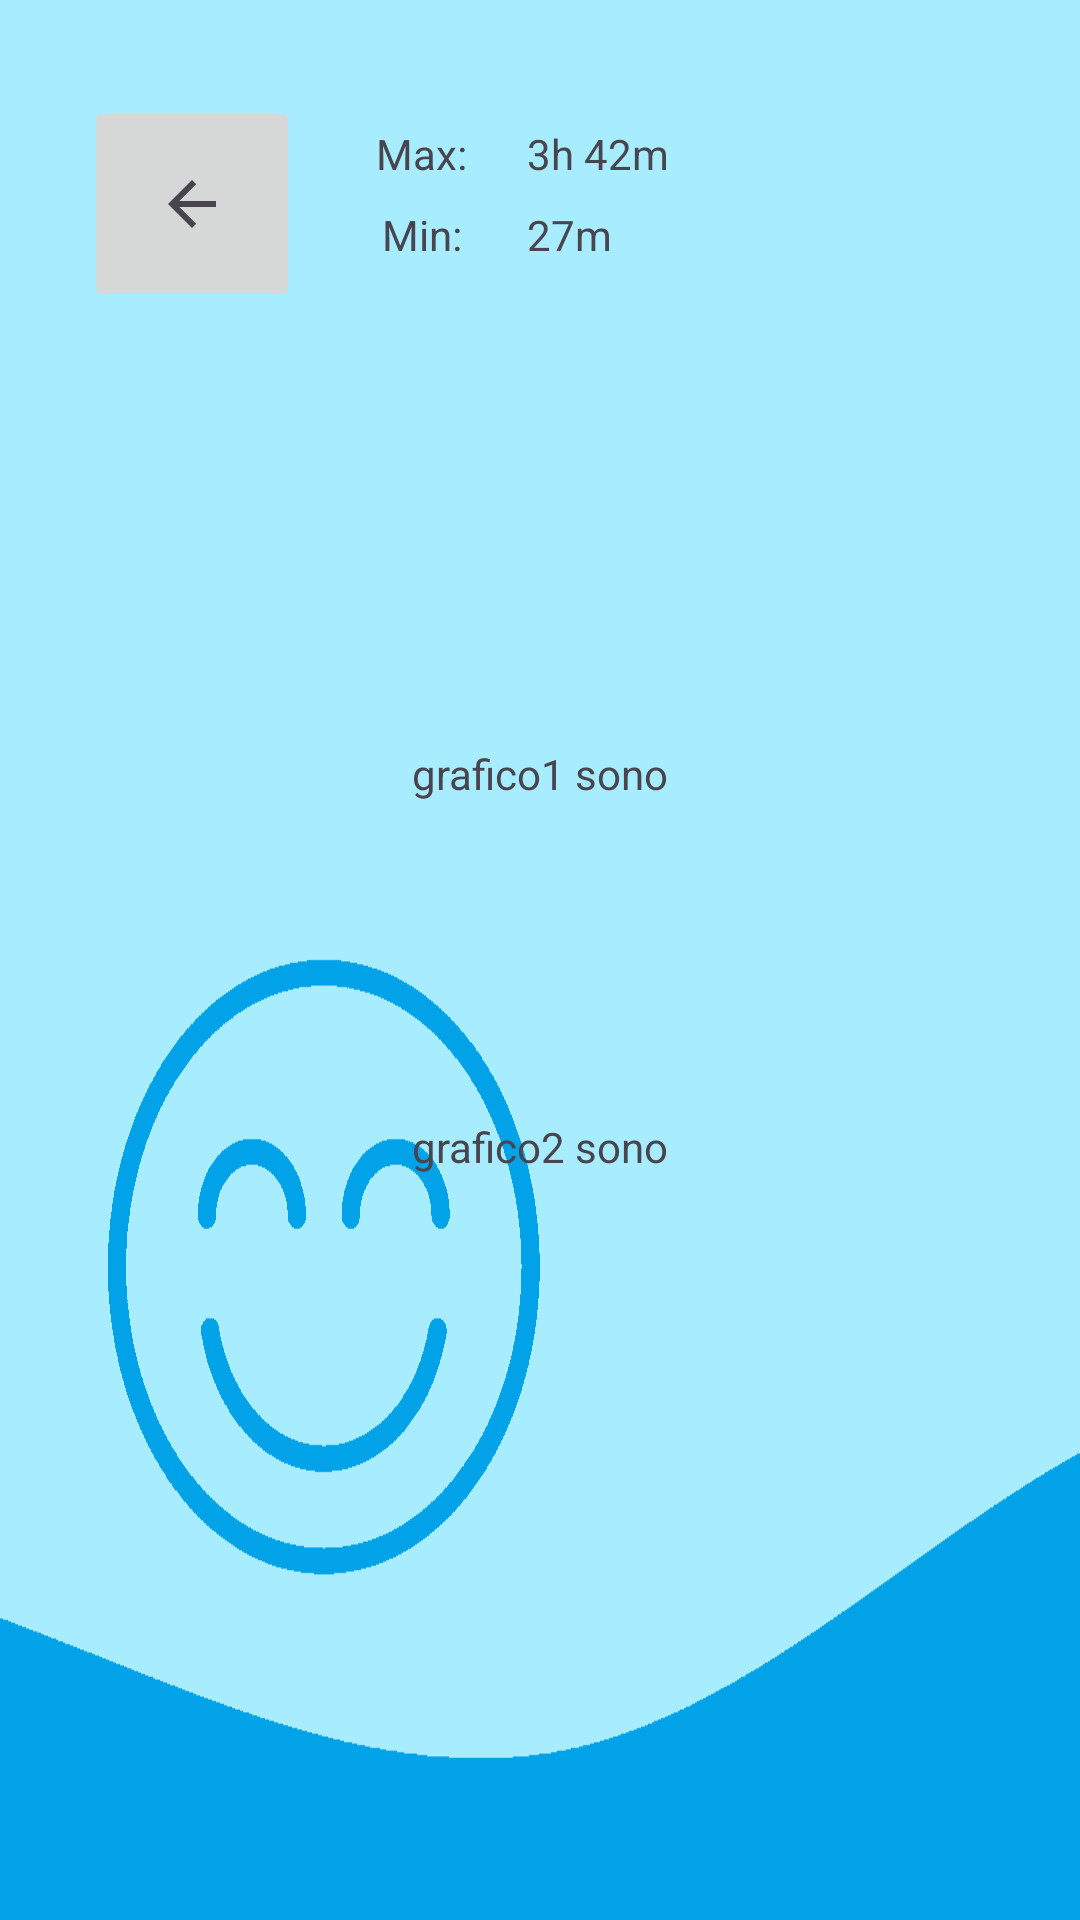

Point at icon controls on the screen. Image size 1080*1920, points as [x,y].
Voltar: [192,204]
